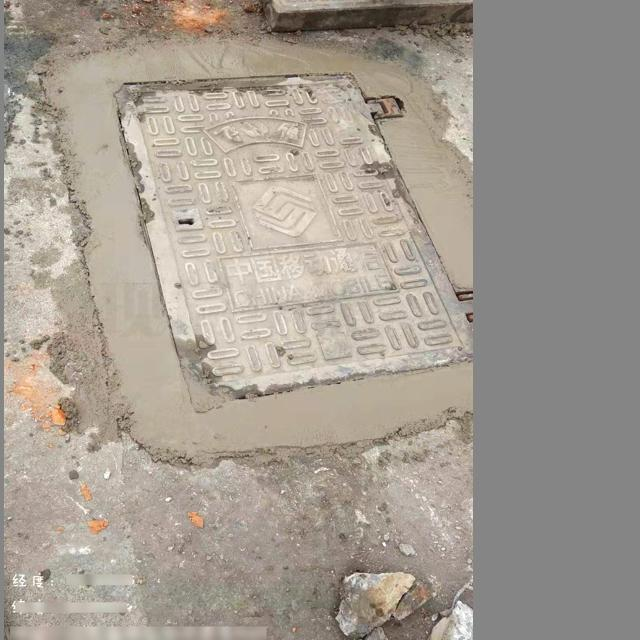good: (111, 72, 473, 411)
